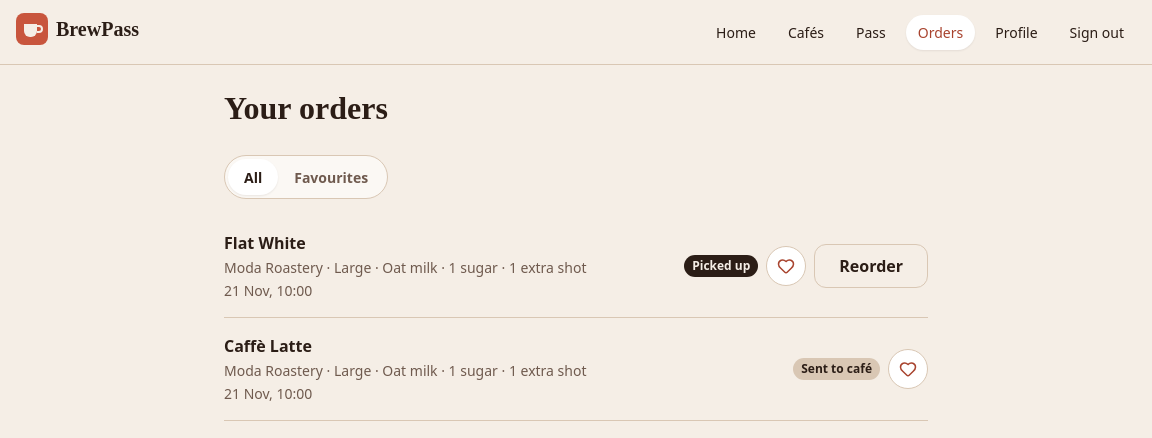
Test case: order history › lists orders, toggles favourites and filters them
Expected: the list item that starts with "Flat White" is shown, [224,231,586,301]
Expected: the button with aria-label "order flat white again" is shown, [814,244,928,288]
Step 1. Click the button named "add flat white to favourites" → click(786, 266), box [766,246,806,286]
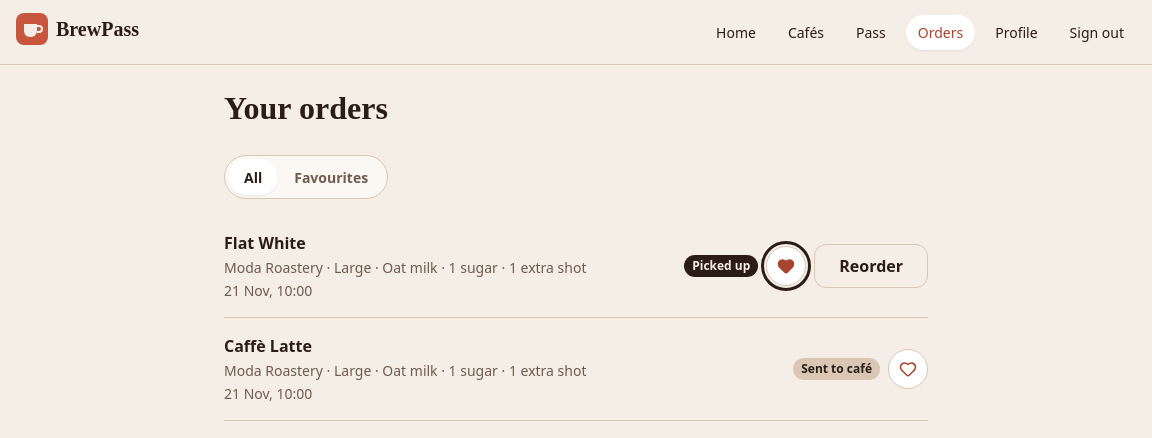
Step 2. Click the button "Favourites" → click(331, 177), box [278,159,384,195]
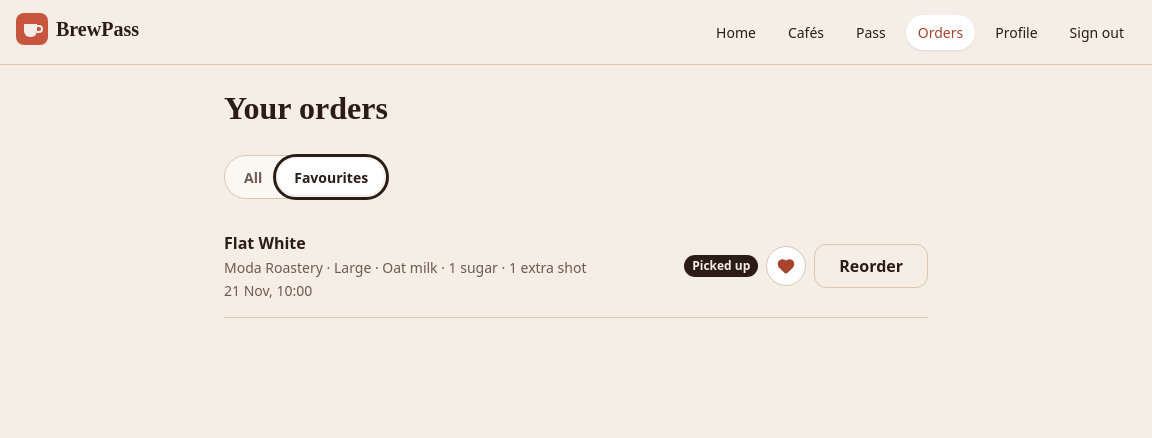
Expected: the list item shows "Flat White", [224,231,586,301]
Now the number of list items is 1, box [224,215,928,318]
